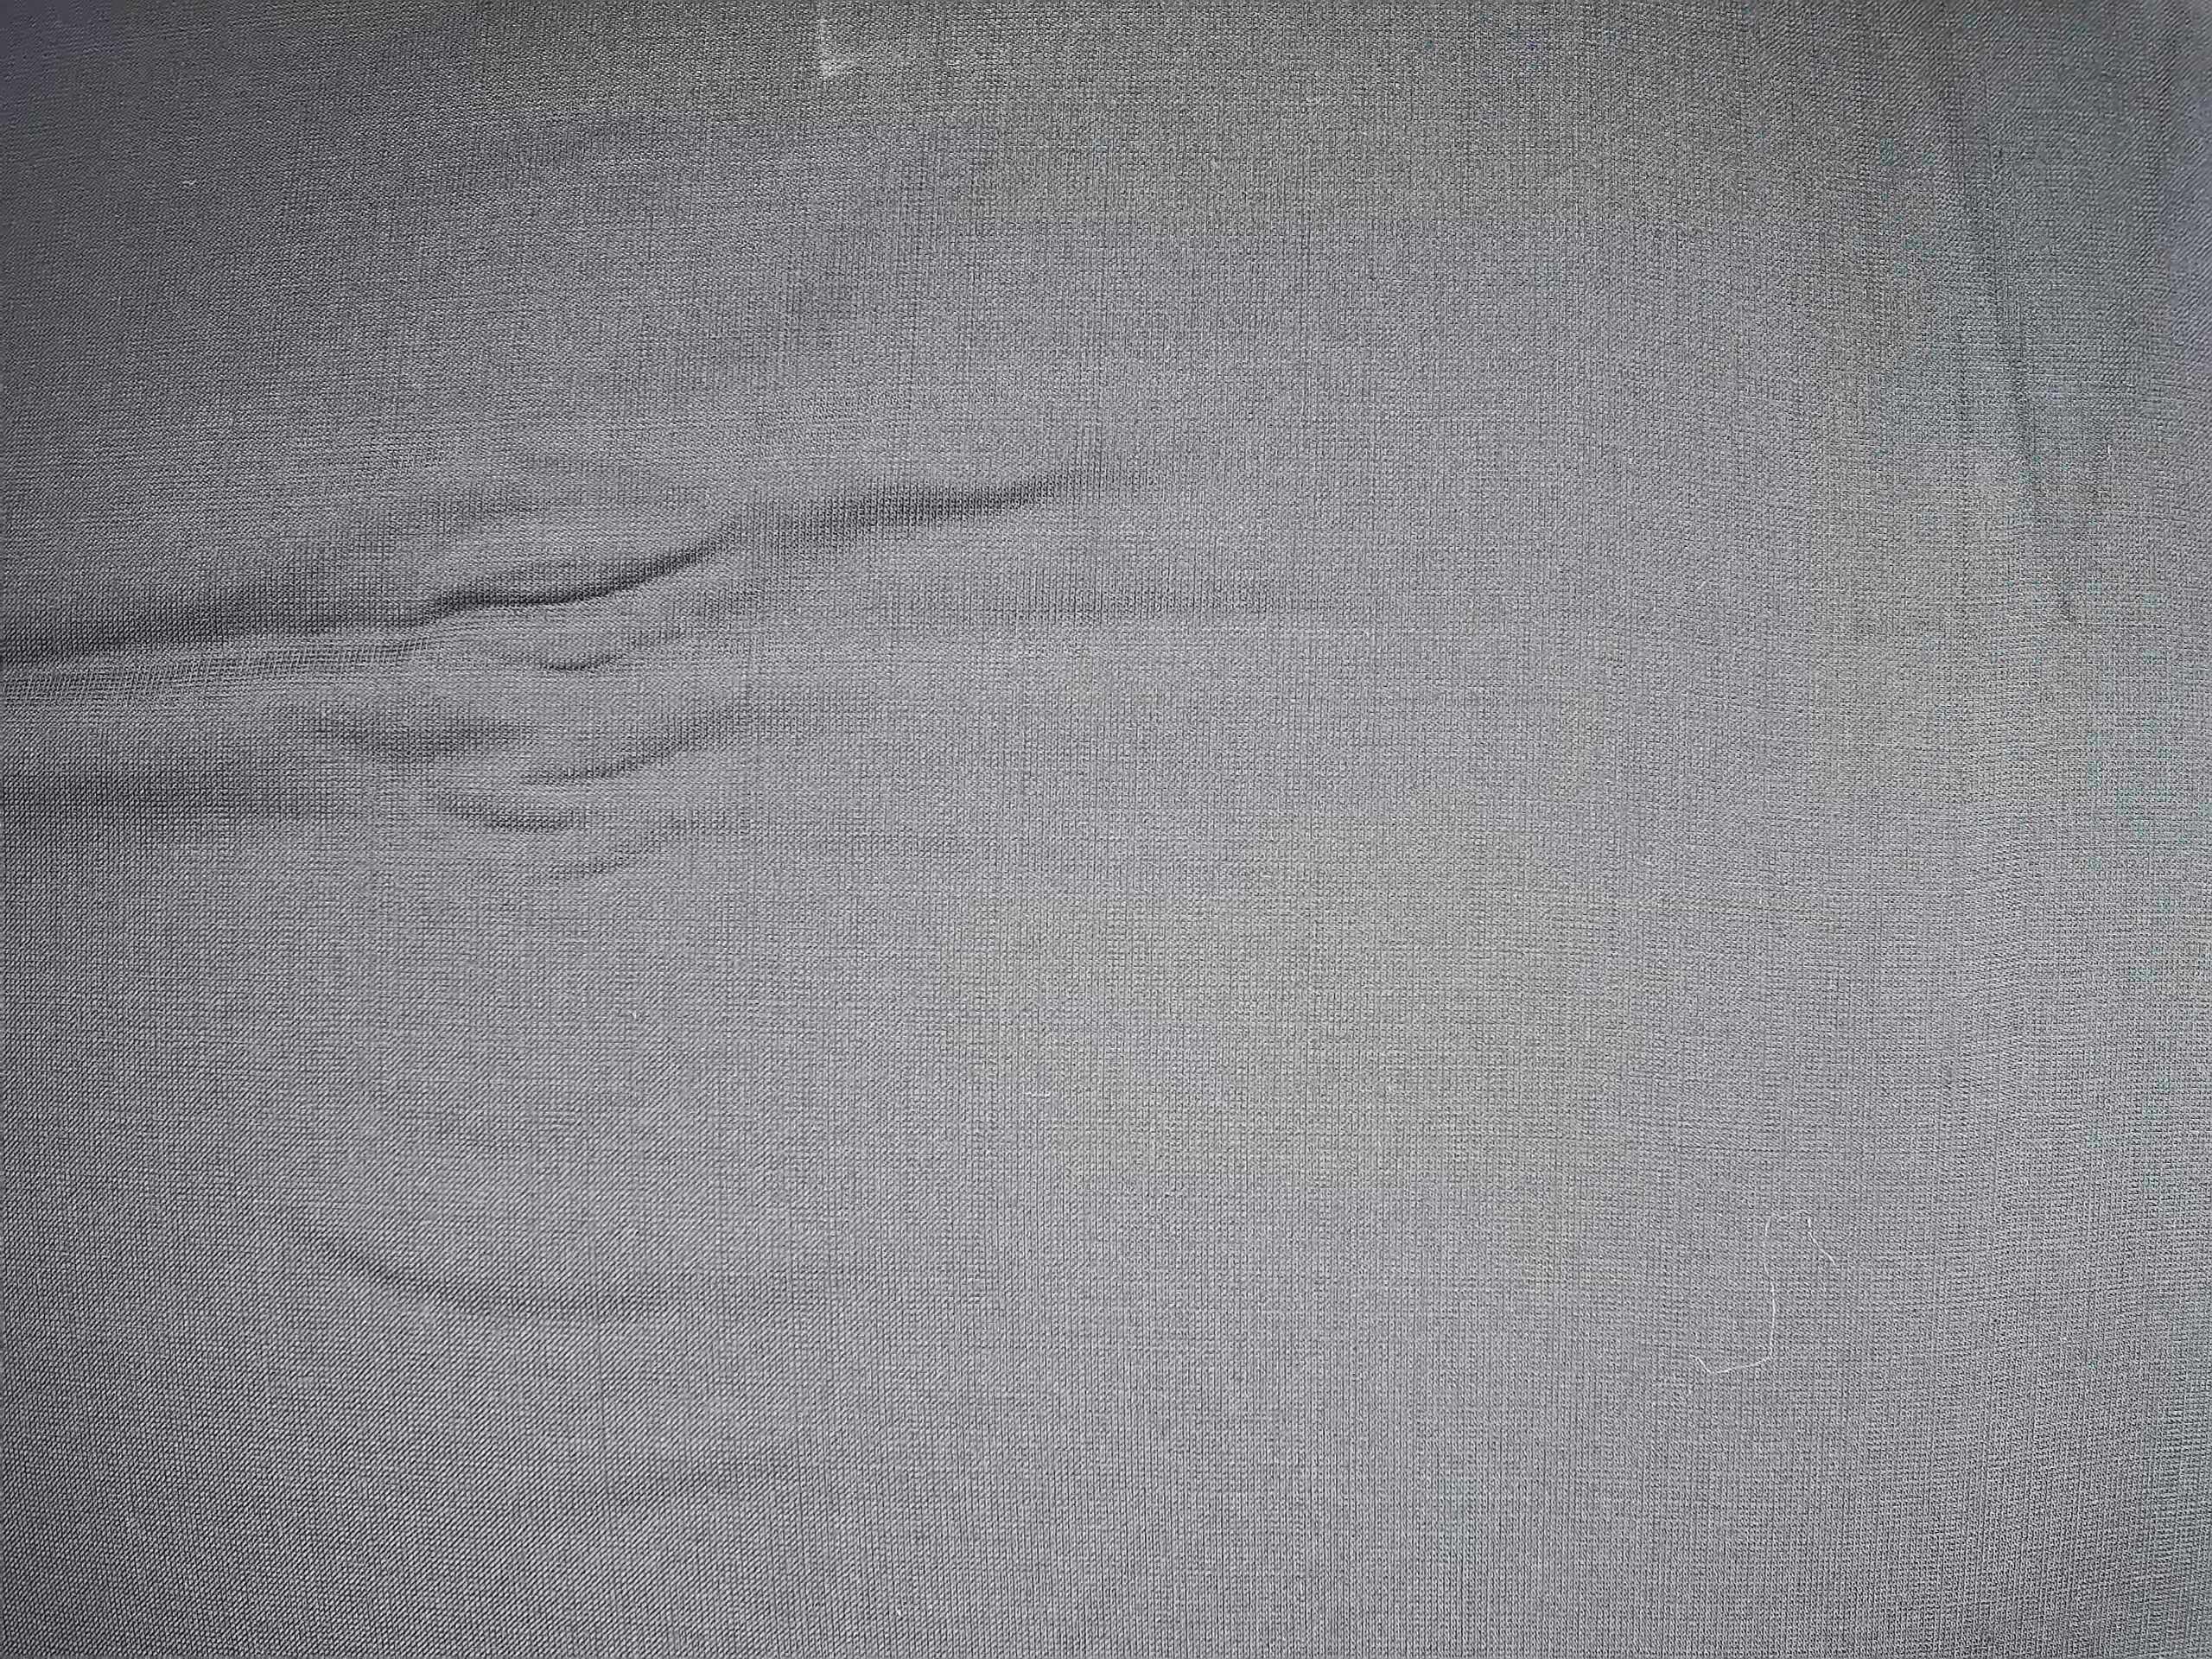hanging-warp: (1944, 314, 1984, 1307)
